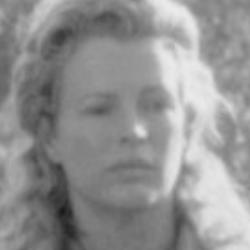face: (13, 3, 226, 222)
